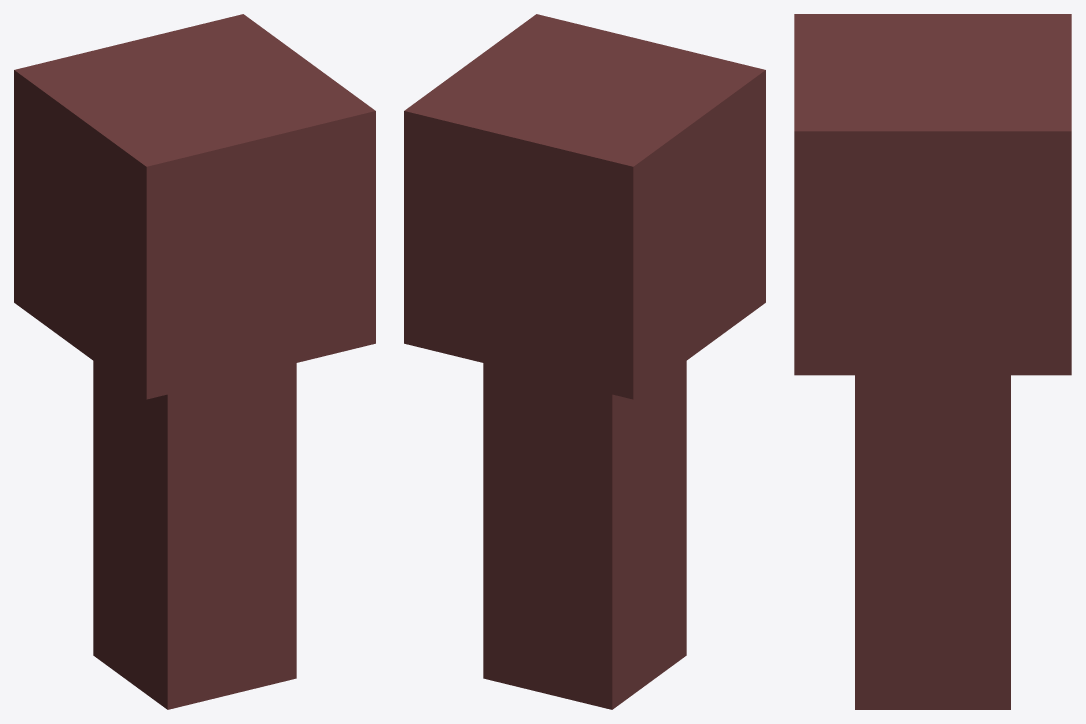
The model's file is Character.fbx.
The picture shows the model from 3 angles, left to right: view 1: azimuth 30°, elevation 25°; view 2: azimuth 150°, elevation 25°; view 3: azimuth 270°, elevation 25°; orthographic projection. The views are drawn at different scales.
Visible parts, largest first — view 1: Perso; view 2: Perso; view 3: Perso.
Boxes of the visible parts, x1,y1,x2,y2 form: Perso: (14,14,375,709); Perso: (404,14,765,709); Perso: (794,14,1071,709).
Size of the model in its own units: 6301 by 15140 by 6301.
